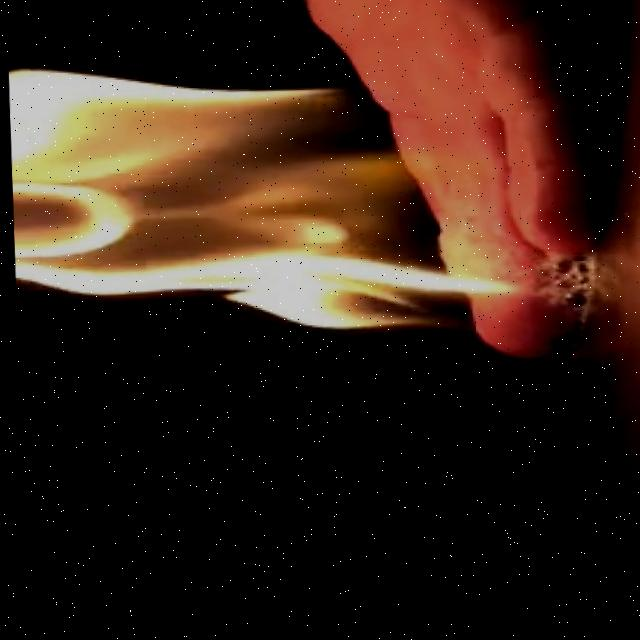Fire: (2, 38, 515, 352)
